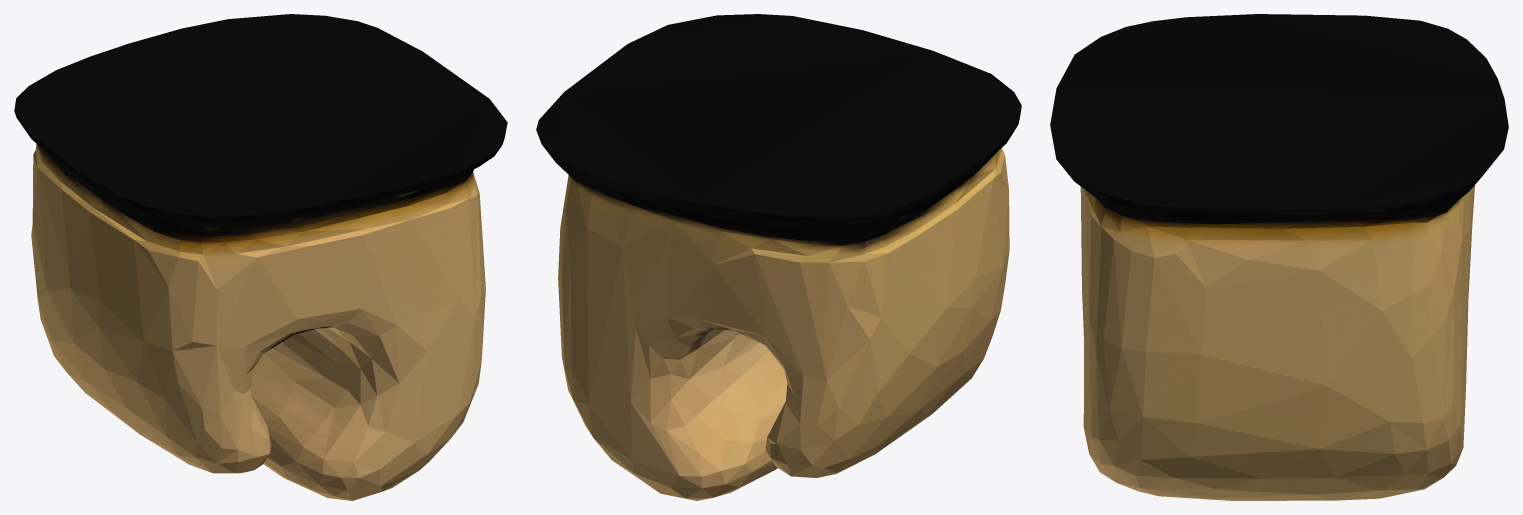
The model's file is LeftHand.glb.
3 renders of one model, left to right at view 1: azimuth 30°, elevation 25°; view 2: azimuth 150°, elevation 25°; view 3: azimuth 270°, elevation 25°, orthographic. The views are drawn at different scales.
Parts seen in each view (by area): view 1: LeftHand; view 2: LeftHand; view 3: LeftHand.
Boxes of the visible parts, x1,y1,x2,y2 form: LeftHand: (14,14,507,500); LeftHand: (536,14,1021,500); LeftHand: (1050,14,1508,500).
Bounding box in the file's own units: 0.9696 × 0.8369 × 0.9603.
Materials: 1 (1 with a texture image).
